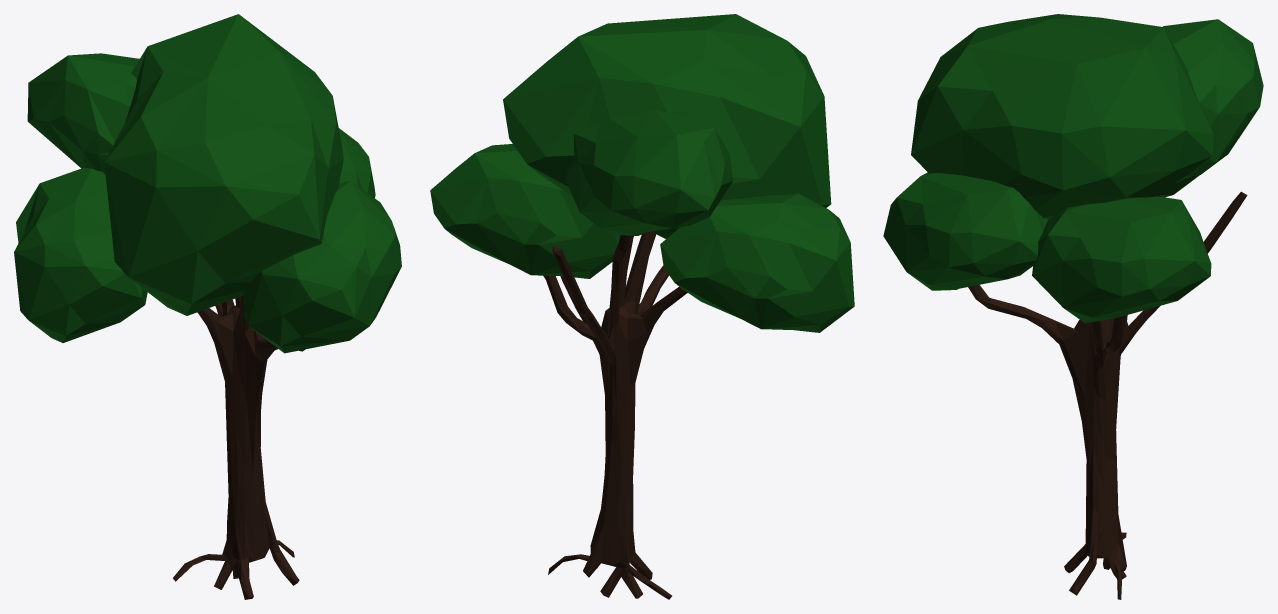
Rendered from SM_tree_18.fbx.
The picture shows the model from 3 angles, left to right: view 1: azimuth 30°, elevation 25°; view 2: azimuth 150°, elevation 25°; view 3: azimuth 270°, elevation 25°; orthographic projection. The views are drawn at different scales.
Parts seen in each view (by area): view 1: tree_18; view 2: tree_18; view 3: tree_18.
Boxes of the visible parts, bbox=[...] form: tree_18: bbox=[14, 14, 401, 599]; tree_18: bbox=[430, 14, 854, 599]; tree_18: bbox=[883, 14, 1263, 599].
Size of the model in its own units: 947 by 1354 by 864.
